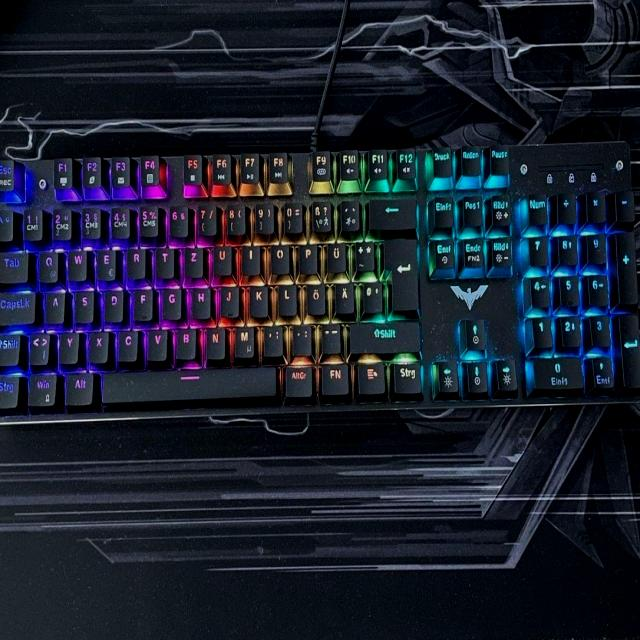0: (282, 201, 302, 233)
1: (22, 206, 43, 240)
2: (51, 207, 71, 239)
3: (80, 205, 101, 238)
4: (110, 205, 130, 238)
5: (138, 204, 158, 237)
6: (168, 204, 188, 236)
7: (196, 203, 217, 235)
8: (225, 202, 245, 234)
9: (252, 201, 274, 234)
a: (44, 288, 64, 322)
accent: (337, 196, 358, 231)
ae: (333, 280, 354, 313)
alt-left: (63, 369, 93, 404)
altgr-right: (283, 363, 313, 397)
b: (173, 325, 195, 358)
c: (116, 327, 137, 360)
caret: (0, 205, 12, 240)
comma: (262, 323, 282, 356)
d: (102, 286, 122, 320)
del: (366, 195, 415, 229)
e: (95, 246, 115, 280)
enter: (381, 235, 417, 311)
f: (132, 285, 152, 319)
g: (160, 285, 180, 318)
h: (190, 285, 210, 318)
hash: (360, 279, 381, 313)
i: (240, 242, 260, 272)
j: (218, 282, 238, 315)
k: (247, 282, 267, 316)
keyboard: (0, 138, 640, 426)
l: (276, 280, 296, 314)
less: (27, 330, 48, 364)
m: (232, 324, 254, 358)
minus: (319, 320, 339, 353)
n: (204, 324, 224, 358)
o: (269, 241, 289, 273)
oe: (305, 280, 325, 313)
p: (297, 240, 317, 272)
plus: (354, 239, 374, 271)
point: (291, 322, 311, 354)
q: (37, 248, 57, 281)
r: (124, 245, 145, 277)
s: (73, 287, 93, 321)
shift-left: (0, 330, 20, 364)
shift-lock: (0, 287, 35, 323)
shift-right: (347, 319, 419, 353)
space: (99, 365, 277, 401)
ss: (311, 200, 331, 232)
strg-left: (0, 373, 19, 408)
strg-right: (391, 359, 421, 393)
t: (153, 244, 173, 276)
tab: (0, 248, 28, 282)
u: (212, 242, 232, 274)
ue: (326, 240, 346, 272)
v: (145, 326, 166, 359)
w: (66, 246, 86, 279)
x: (87, 328, 107, 361)
y: (58, 329, 78, 363)
z: (183, 244, 203, 276)
